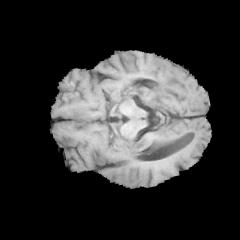glioma: (141, 60, 193, 95)
